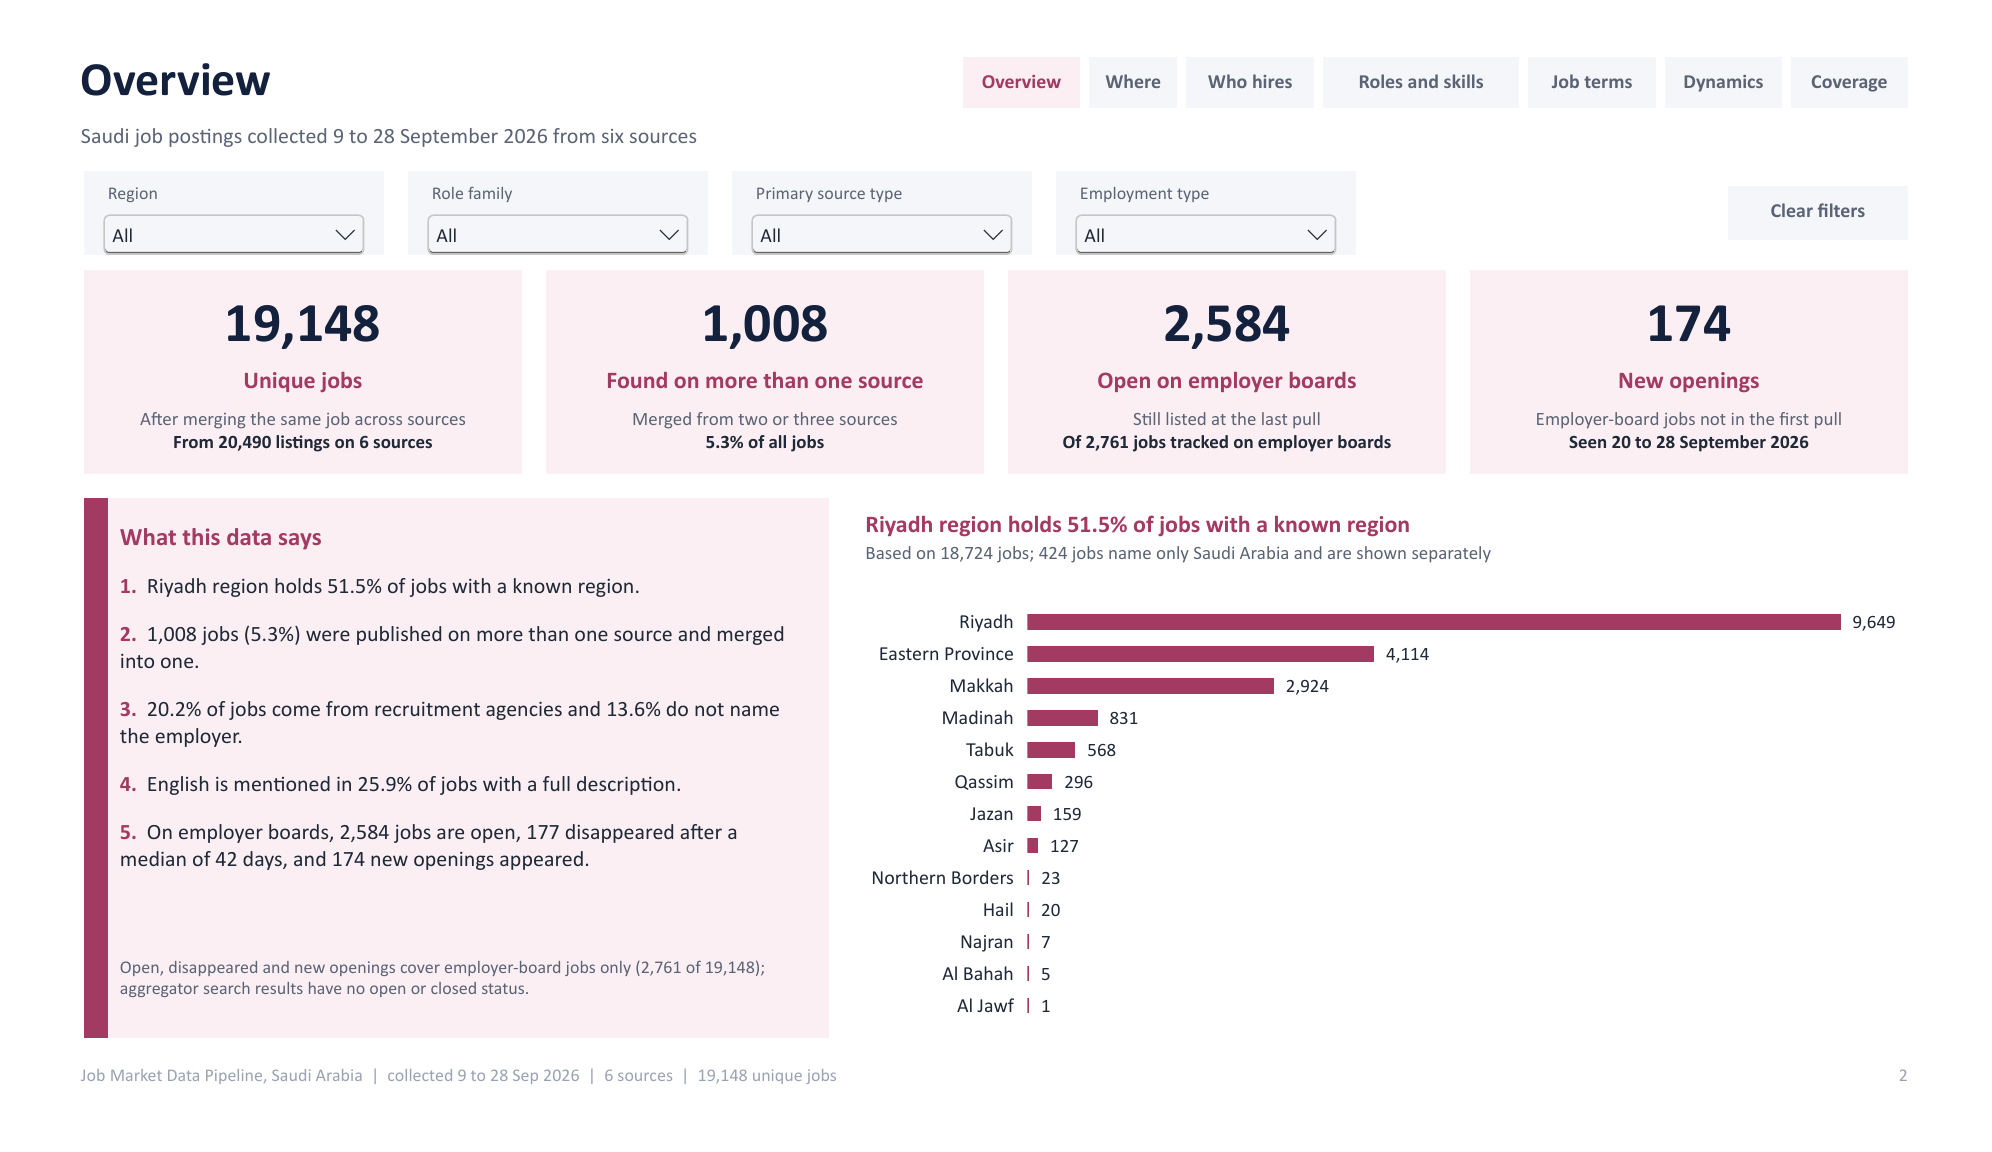

Layout of this report page (visuals, bound fields, positions):
{"tool":"powerbi","page":{"name":"Overview","canvas":[1280,720],"ordinal":1},"visuals":[{"type":"textbox","box":[32,156,292,136],"z":0},{"type":"textbox","box":[340,156,292,136],"z":1000},{"type":"textbox","box":[648,156,292,136],"z":2000},{"type":"textbox","box":[956,156,292,136],"z":3000},{"type":"textbox","box":[32,308,497,360],"z":4000},{"type":"textbox","box":[32,308,5,360],"z":5000},{"type":"textbox","box":[22,2,660,60],"z":6000},{"type":"textbox","box":[22,50,760,36],"z":7000},{"type":"textbox","box":[618,14,78,34],"z":8000},{"type":"textbox","box":[702,14,59,34],"z":9000},{"type":"actionButton","box":[702,14,59,34],"z":10000},{"type":"textbox","box":[767,14,85,34],"z":11000},{"type":"actionButton","box":[767,14,85,34],"z":12000},{"type":"textbox","box":[858,14,131,34],"z":13000},{"type":"actionButton","box":[858,14,131,34],"z":14000},{"type":"textbox","box":[995,14,85,34],"z":15000},{"type":"actionButton","box":[995,14,85,34],"z":16000},{"type":"textbox","box":[1086,14,78,34],"z":17000},{"type":"actionButton","box":[1086,14,78,34],"z":18000},{"type":"textbox","box":[1170,14,78,34],"z":19000},{"type":"actionButton","box":[1170,14,78,34],"z":20000},{"type":"slicer","fields":{"Values":["DIM_LOCATION.REGION"]},"box":[32,90,200,56],"z":21000},{"type":"slicer","fields":{"Values":["DIM_ROLE.ROLE_FAMILY"]},"box":[248,90,200,56],"z":22000},{"type":"slicer","fields":{"Values":["DIM_SOURCE.SOURCE_TYPE"]},"box":[464,90,200,56],"z":23000},{"type":"slicer","fields":{"Values":["DIM_JOB_ATTRIBUTES.EMPLOYMENT_TYPE"]},"box":[680,90,200,56],"z":24000},{"type":"textbox","box":[1128,100,120,36],"z":25000},{"type":"actionButton","box":[1128,100,120,36],"z":26000},{"type":"textbox","box":[22,678,940,38],"z":27000},{"type":"textbox","box":[1160,678,96,38],"z":28000},{"type":"card","fields":{"Values":["_Measures.Jobs"]},"box":[42,160,272,58],"z":29000},{"type":"textbox","box":[38,212,280,36],"z":30000},{"type":"textbox","box":[38,240,280,50],"z":31000},{"type":"card","fields":{"Values":["_Measures.Multi-source Jobs"]},"box":[350,160,272,58],"z":32000},{"type":"textbox","box":[346,212,280,36],"z":33000},{"type":"textbox","box":[346,240,280,50],"z":34000},{"type":"card","fields":{"Values":["_Measures.Open Jobs"]},"box":[658,160,272,58],"z":35000},{"type":"textbox","box":[654,212,280,36],"z":36000},{"type":"textbox","box":[654,240,280,50],"z":37000},{"type":"card","fields":{"Values":["_Measures.New Openings"]},"box":[966,160,272,58],"z":38000},{"type":"textbox","box":[962,212,280,36],"z":39000},{"type":"textbox","box":[962,240,280,50],"z":40000},{"type":"textbox","box":[48,316,470,270],"z":41000},{"type":"textbox","box":[48,606,470,58],"z":42000},{"type":"clusteredBarChart","fields":{"Category":["DIM_LOCATION.REGION"],"Y":["_Measures.Jobs Known Region"]},"box":[545,308,703,360],"z":43000}]}

Visuals, with their boxes in screenshot pixels (x1, y1, x2, y2), scaled from the page's 1280x720 canvas onto the 1992x1152 screenshot:
textbox: bbox=[50, 250, 504, 467]
textbox: bbox=[529, 250, 984, 467]
textbox: bbox=[1008, 250, 1463, 467]
textbox: bbox=[1488, 250, 1942, 467]
textbox: bbox=[50, 493, 823, 1069]
textbox: bbox=[50, 493, 58, 1069]
textbox: bbox=[34, 3, 1061, 99]
textbox: bbox=[34, 80, 1217, 138]
textbox: bbox=[962, 22, 1083, 77]
textbox: bbox=[1092, 22, 1184, 77]
actionButton: bbox=[1092, 22, 1184, 77]
textbox: bbox=[1194, 22, 1326, 77]
actionButton: bbox=[1194, 22, 1326, 77]
textbox: bbox=[1335, 22, 1539, 77]
actionButton: bbox=[1335, 22, 1539, 77]
textbox: bbox=[1548, 22, 1681, 77]
actionButton: bbox=[1548, 22, 1681, 77]
textbox: bbox=[1690, 22, 1811, 77]
actionButton: bbox=[1690, 22, 1811, 77]
textbox: bbox=[1821, 22, 1942, 77]
actionButton: bbox=[1821, 22, 1942, 77]
slicer - DIM_LOCATION.REGION: bbox=[50, 144, 361, 234]
slicer - DIM_ROLE.ROLE_FAMILY: bbox=[386, 144, 697, 234]
slicer - DIM_SOURCE.SOURCE_TYPE: bbox=[722, 144, 1033, 234]
slicer - DIM_JOB_ATTRIBUTES.EMPLOYMENT_TYPE: bbox=[1058, 144, 1370, 234]
textbox: bbox=[1755, 160, 1942, 218]
actionButton: bbox=[1755, 160, 1942, 218]
textbox: bbox=[34, 1085, 1497, 1146]
textbox: bbox=[1805, 1085, 1955, 1146]
card - _Measures.Jobs: bbox=[65, 256, 489, 349]
textbox: bbox=[59, 339, 495, 397]
textbox: bbox=[59, 384, 495, 464]
card - _Measures.Multi-source Jobs: bbox=[545, 256, 968, 349]
textbox: bbox=[538, 339, 974, 397]
textbox: bbox=[538, 384, 974, 464]
card - _Measures.Open Jobs: bbox=[1024, 256, 1447, 349]
textbox: bbox=[1018, 339, 1454, 397]
textbox: bbox=[1018, 384, 1454, 464]
card - _Measures.New Openings: bbox=[1503, 256, 1927, 349]
textbox: bbox=[1497, 339, 1933, 397]
textbox: bbox=[1497, 384, 1933, 464]
textbox: bbox=[75, 506, 806, 938]
textbox: bbox=[75, 970, 806, 1062]
clusteredBarChart - DIM_LOCATION.REGION x _Measures.Jobs Known Region: bbox=[848, 493, 1942, 1069]
